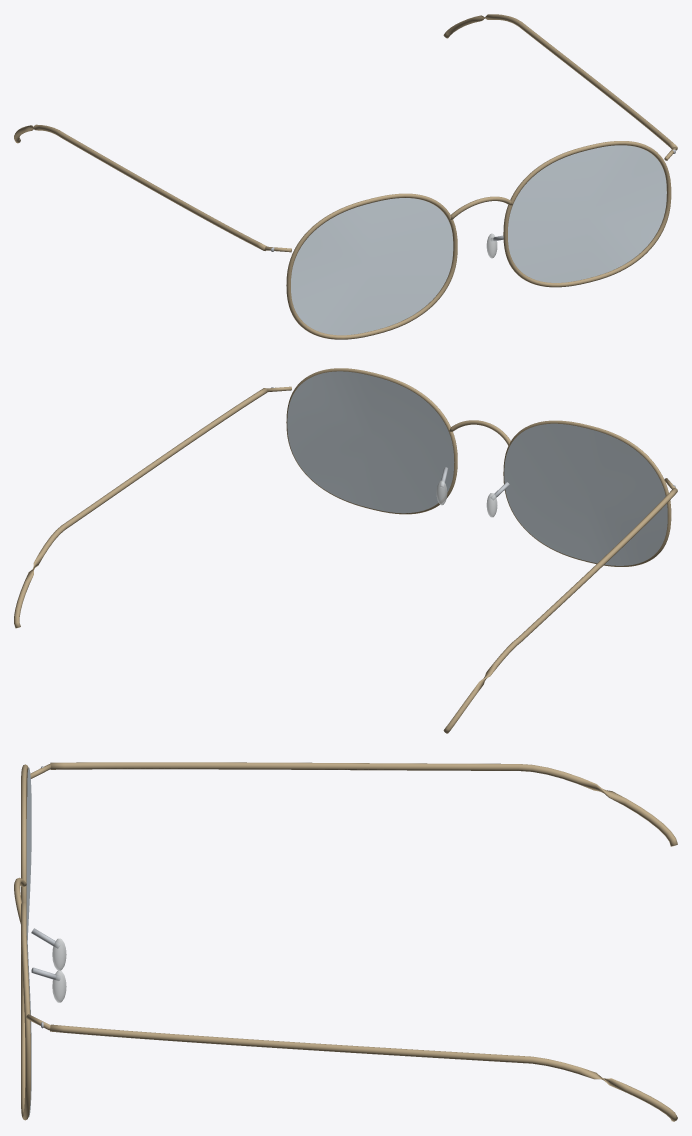
Rendered from tim-43-v1.glb.
3 renders of one model, top to bottom at view 1: azimuth 30°, elevation 25°; view 2: azimuth 150°, elevation 25°; view 3: azimuth 270°, elevation 25°, orthographic. The views are drawn at different scales.
Visible parts, largest first — view 1: lens_right, lens_left, rim_right, rim_left, temple_right, temple_left; view 2: lens_left, lens_right, temple_left, temple_right, rim_left, rim_right; view 3: temple_right, temple_left, rim_left, rim_right, lens_right.
Boxes of the visible parts, box(x1,y1,x2,y2) form: lens_right: box(291, 198, 453, 335); lens_left: box(508, 145, 666, 282); rim_right: box(286, 193, 457, 339); rim_left: box(503, 141, 671, 287); temple_right: box(14, 124, 266, 250); temple_left: box(443, 14, 677, 149); lens_left: box(287, 371, 454, 513); lens_right: box(504, 423, 667, 565); temple_left: box(14, 388, 267, 628); temple_right: box(443, 488, 677, 733); rim_left: box(286, 368, 457, 514); rim_right: box(503, 420, 671, 566); temple_right: box(50, 762, 677, 846); temple_left: box(50, 1024, 677, 1121); rim_left: box(21, 902, 30, 1120); rim_right: box(21, 764, 28, 904); lens_right: box(26, 767, 31, 939).
Size of the model in its own units: 0.1567 by 0.0444 by 0.149.
